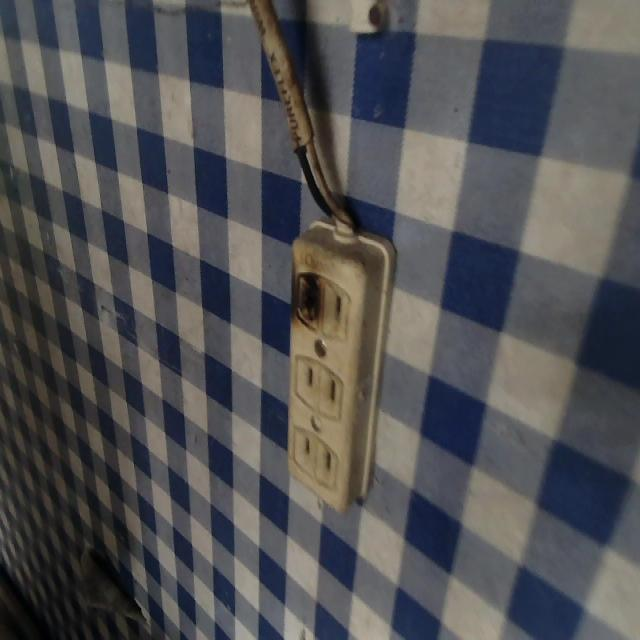-: (286, 265, 329, 336)
